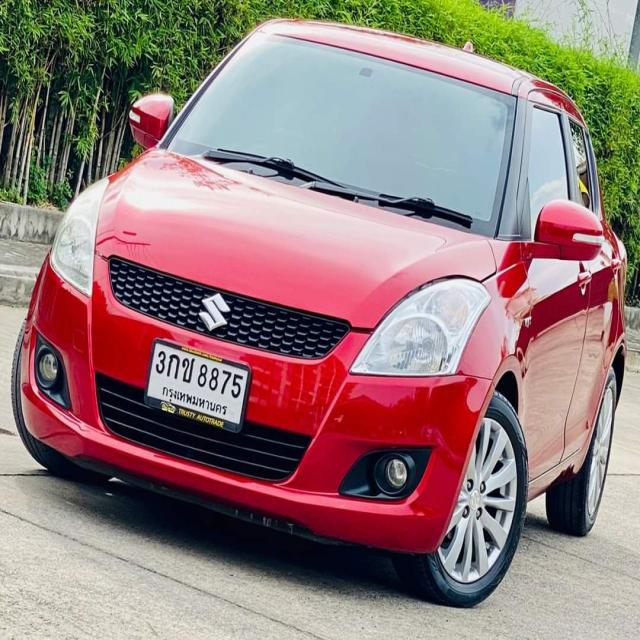license_plate: (140, 334, 254, 440)
